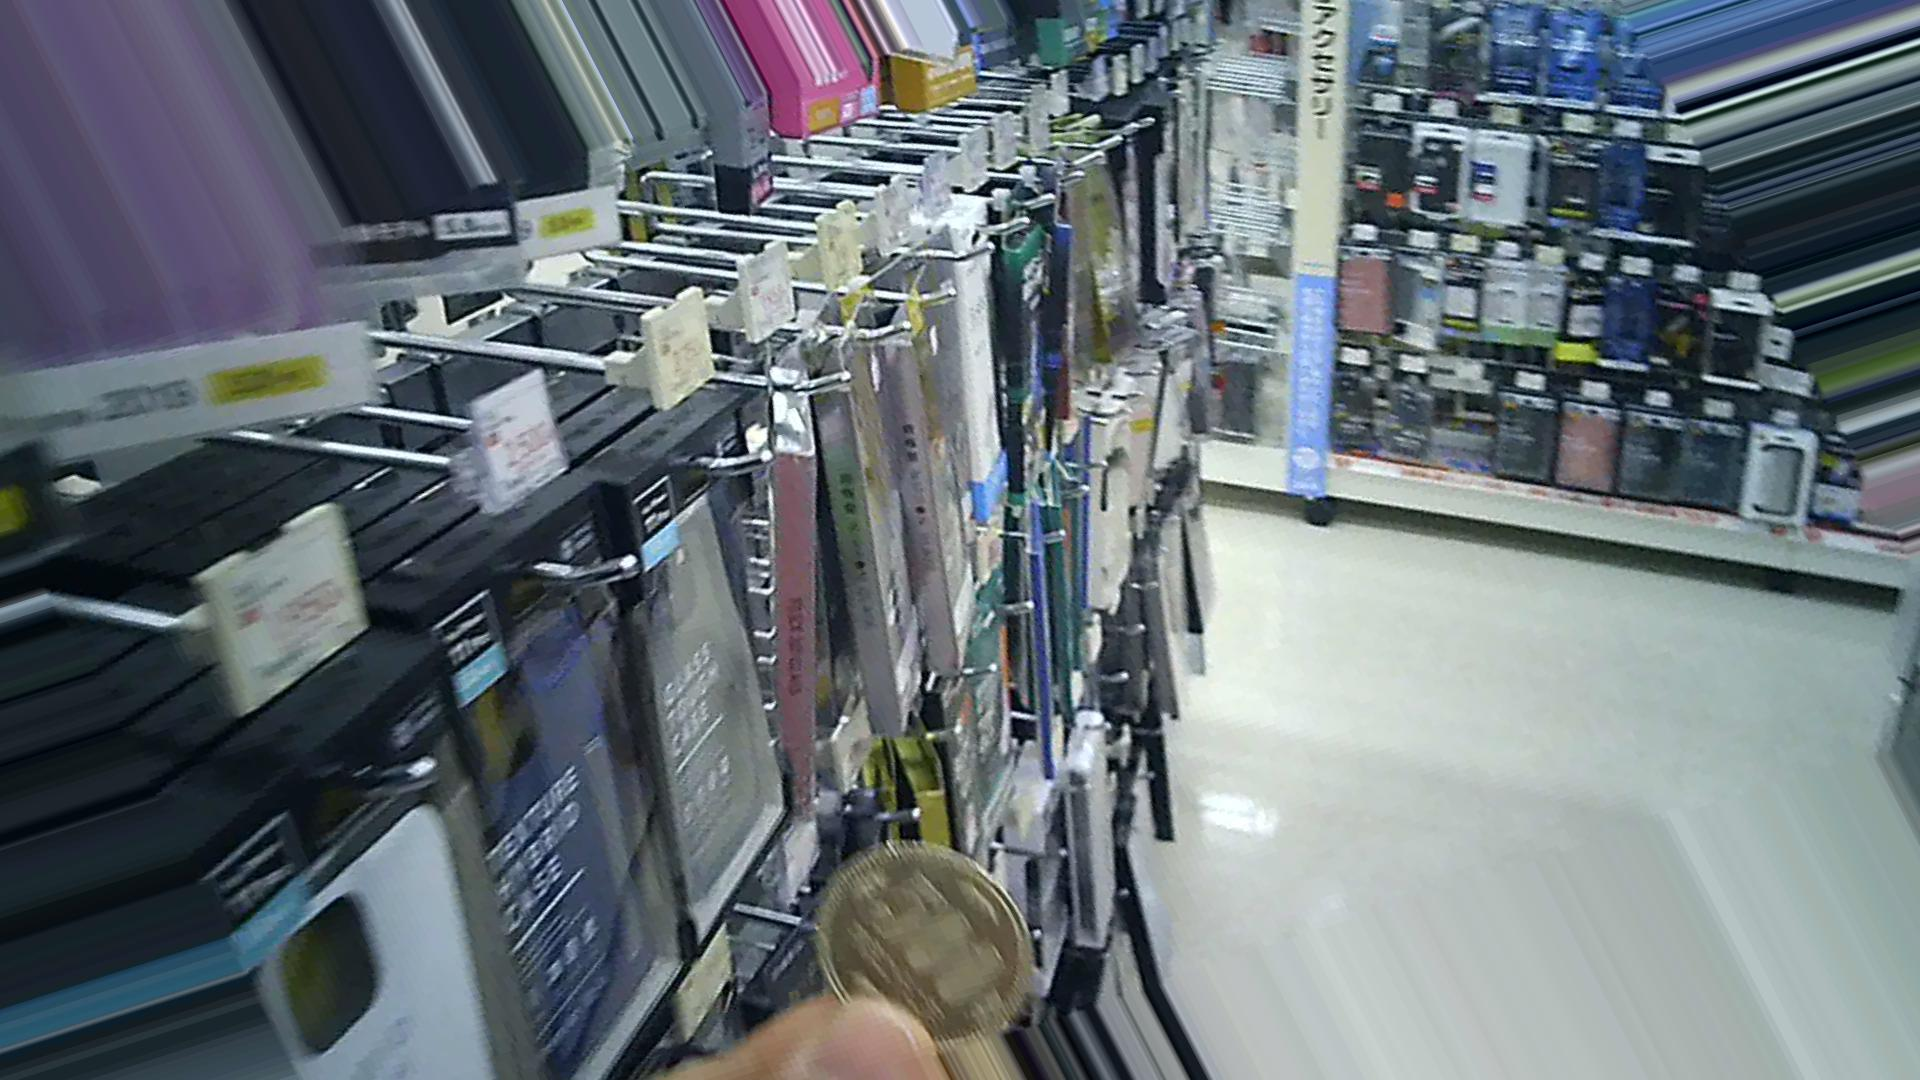500 Yen: (815, 833, 1033, 1055)
